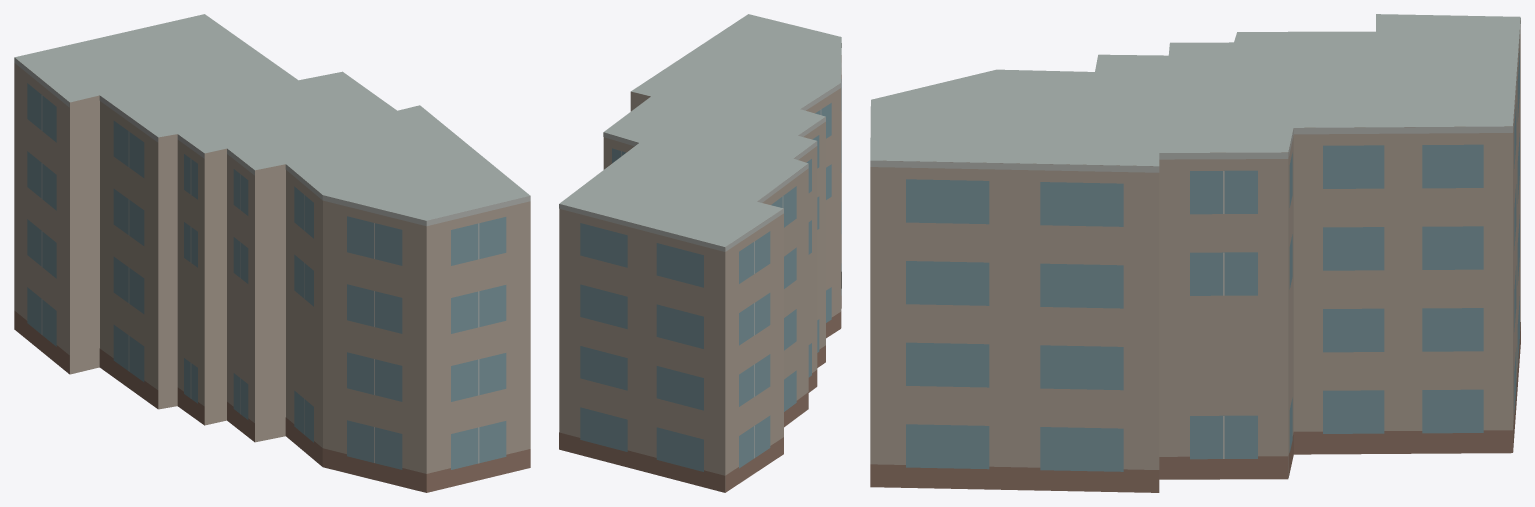
Rendered from survey-upis-32920141.glb.
3 renders of one model, left to right at view 1: azimuth 30°, elevation 25°; view 2: azimuth 150°, elevation 25°; view 3: azimuth 270°, elevation 25°, orthographic. The views are drawn at different scales.
Parts seen in each view (by area): view 1: survey-upis-32920141.tmp; view 2: survey-upis-32920141.tmp; view 3: survey-upis-32920141.tmp.
Boxes of the visible parts, bbox=[...] form: survey-upis-32920141.tmp: bbox=[14, 14, 530, 492]; survey-upis-32920141.tmp: bbox=[559, 14, 841, 492]; survey-upis-32920141.tmp: bbox=[870, 14, 1520, 492].
Bounding box in the file's own units: 12.2 × 12.2 × 22.03.
